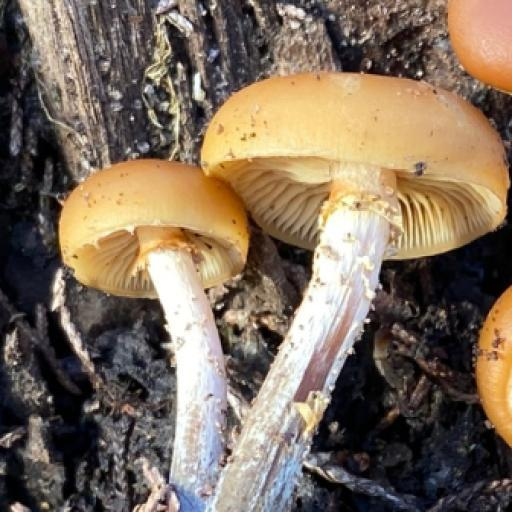mushroom: (52, 57, 509, 437)
